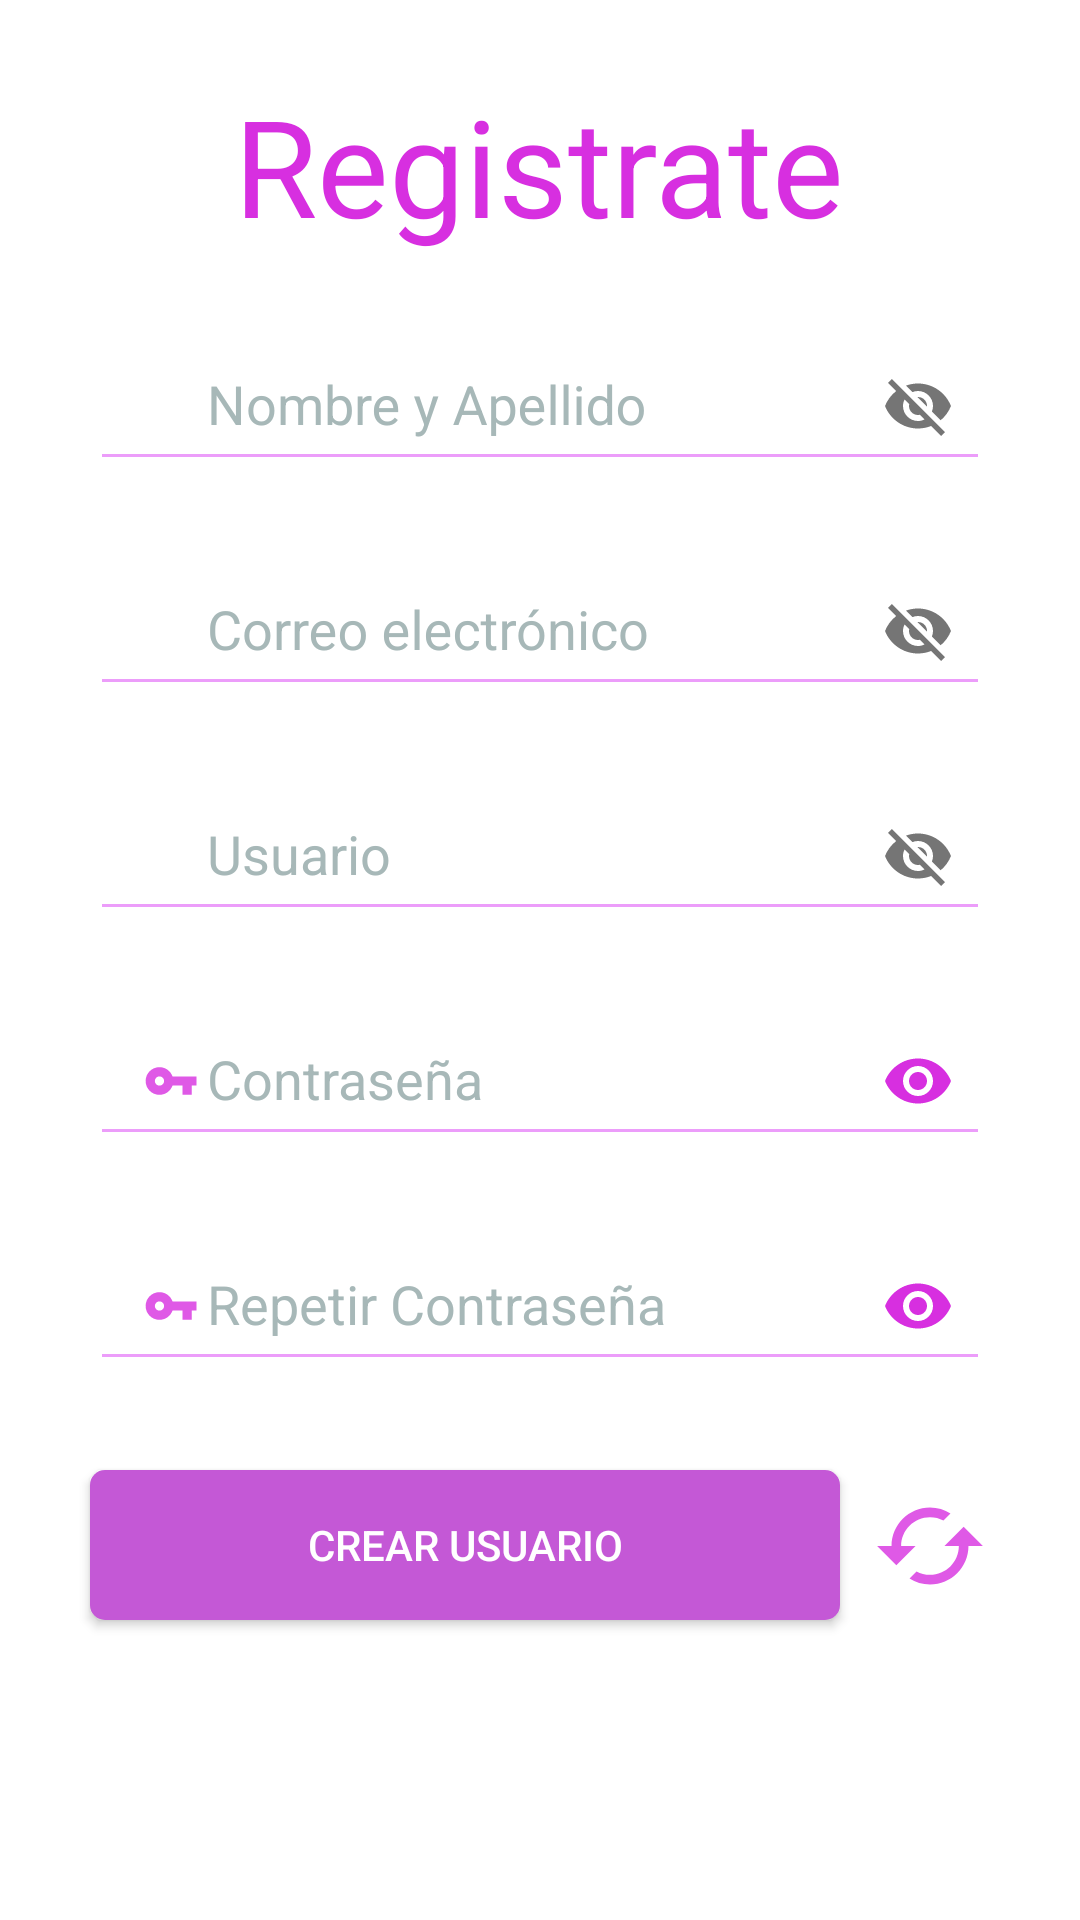

Icons on this 1080px×1920px Android screen, each with the point to tap as [x,y]:
refresh: [930,1546]
